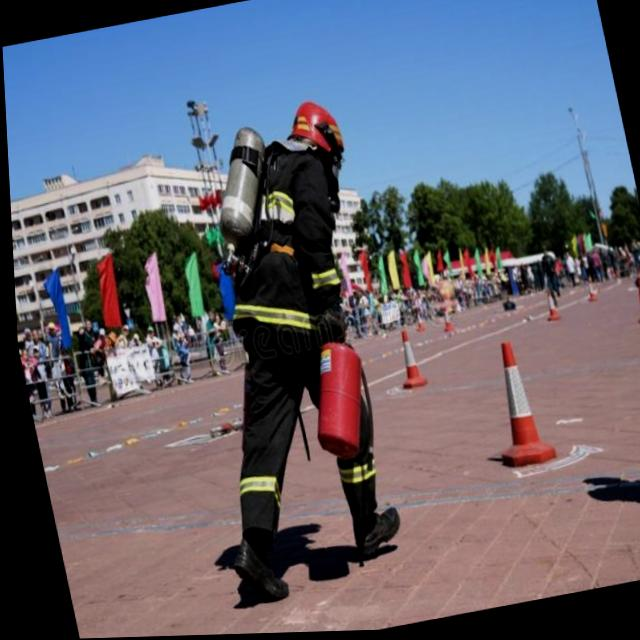FireExtinguisher: (293, 324, 386, 470)
